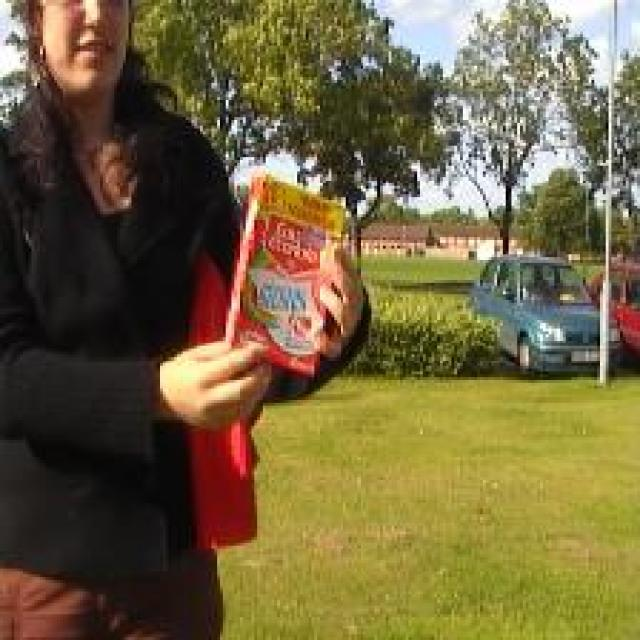other: (192, 178, 328, 522)
